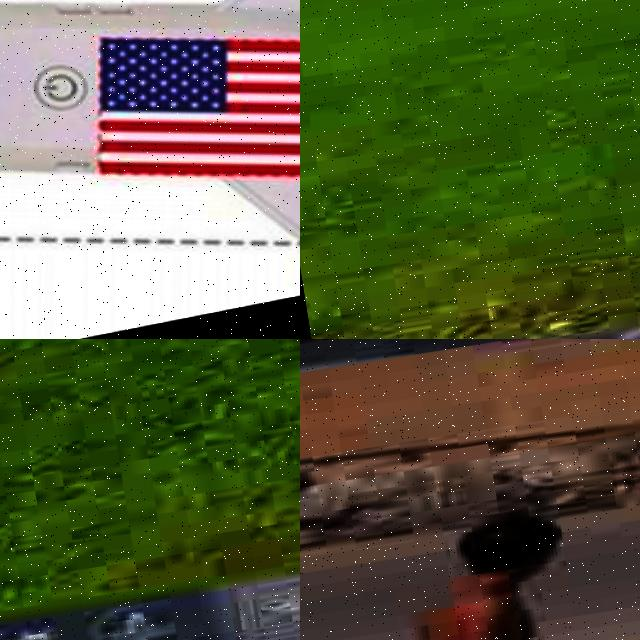drone: (0, 0, 300, 339)
